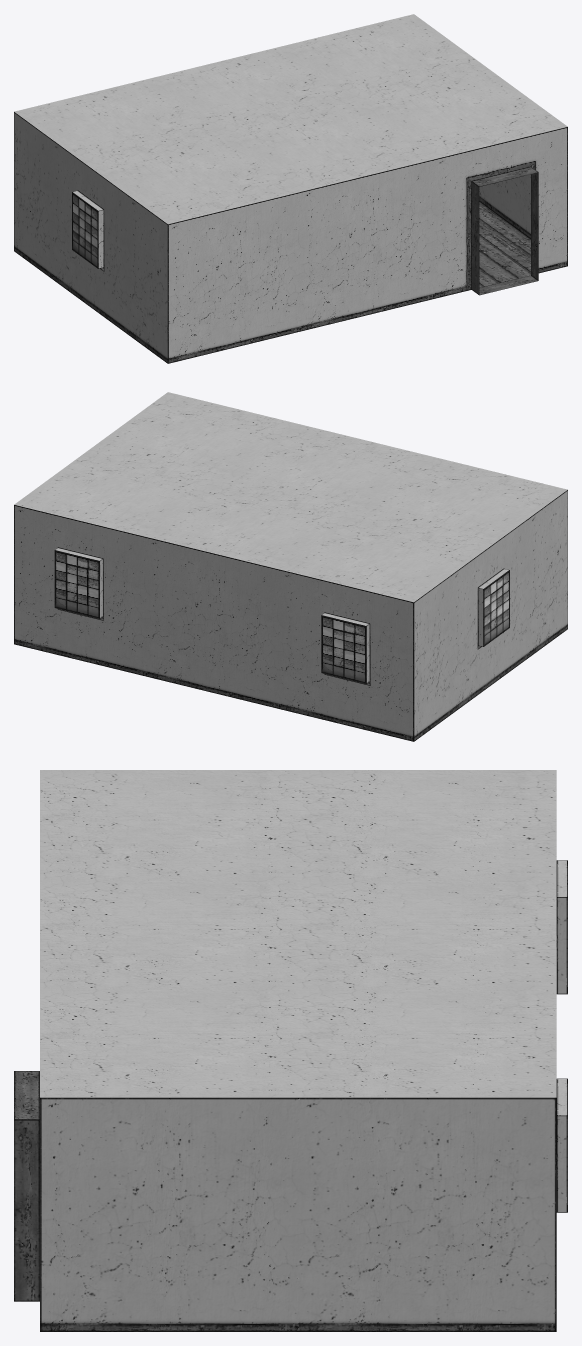
The model's file is Level_House_Test.fbx.
The picture shows the model from 3 angles, top to bottom: view 1: azimuth 30°, elevation 25°; view 2: azimuth 150°, elevation 25°; view 3: azimuth 270°, elevation 25°; orthographic projection. The views are drawn at different scales.
Parts seen in each view (by area): view 1: Ceiling, Wall4, Wall1, Floor, Wall3; view 2: Ceiling, Wall2, Wall1; view 3: Ceiling, Wall3, Wall4, Wall2.
Part boxes in pixels (x1=…): Ceiling: x1=14, y1=14, x2=567, y2=224; Wall4: x1=168, y1=127, x2=567, y2=363; Wall1: x1=14, y1=112, x2=167, y2=363; Floor: x1=479, y1=201, x2=530, y2=287; Wall3: x1=479, y1=174, x2=530, y2=238; Ceiling: x1=14, y1=392, x2=567, y2=602; Wall2: x1=14, y1=505, x2=413, y2=741; Wall1: x1=414, y1=490, x2=567, y2=741; Ceiling: x1=40, y1=770, x2=556, y2=1097; Wall3: x1=40, y1=1097, x2=556, y2=1331; Wall4: x1=14, y1=1071, x2=39, y2=1301; Wall2: x1=556, y1=860, x2=567, y2=1212.
Size of the model in its own units: 913 by 300 by 643.
